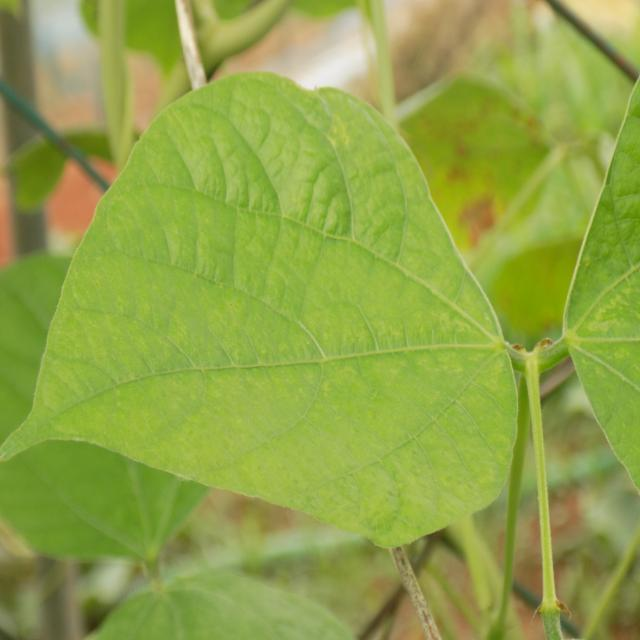Dolicos bean_healthy: (0, 67, 522, 544), (0, 256, 218, 550)
